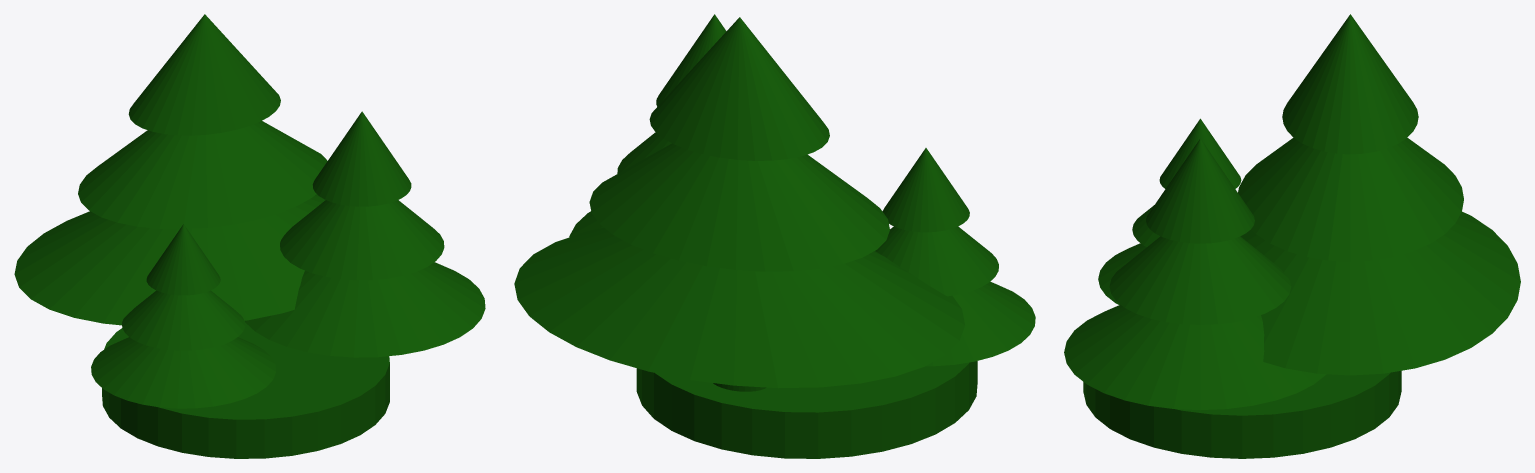
The model's file is forest.dae.
The picture shows the model from 3 angles, left to right: view 1: azimuth 30°, elevation 25°; view 2: azimuth 150°, elevation 25°; view 3: azimuth 270°, elevation 25°; orthographic projection. The views are drawn at different scales.
Parts seen in each view (by area): view 1: Forest; view 2: Forest; view 3: Forest.
Boxes of the visible parts, x1,y1,x2,y2 form: Forest: [14, 14, 485, 458]; Forest: [514, 14, 1035, 458]; Forest: [1064, 14, 1520, 458].
Size of the model in its own units: 1037 by 1005 by 927.
